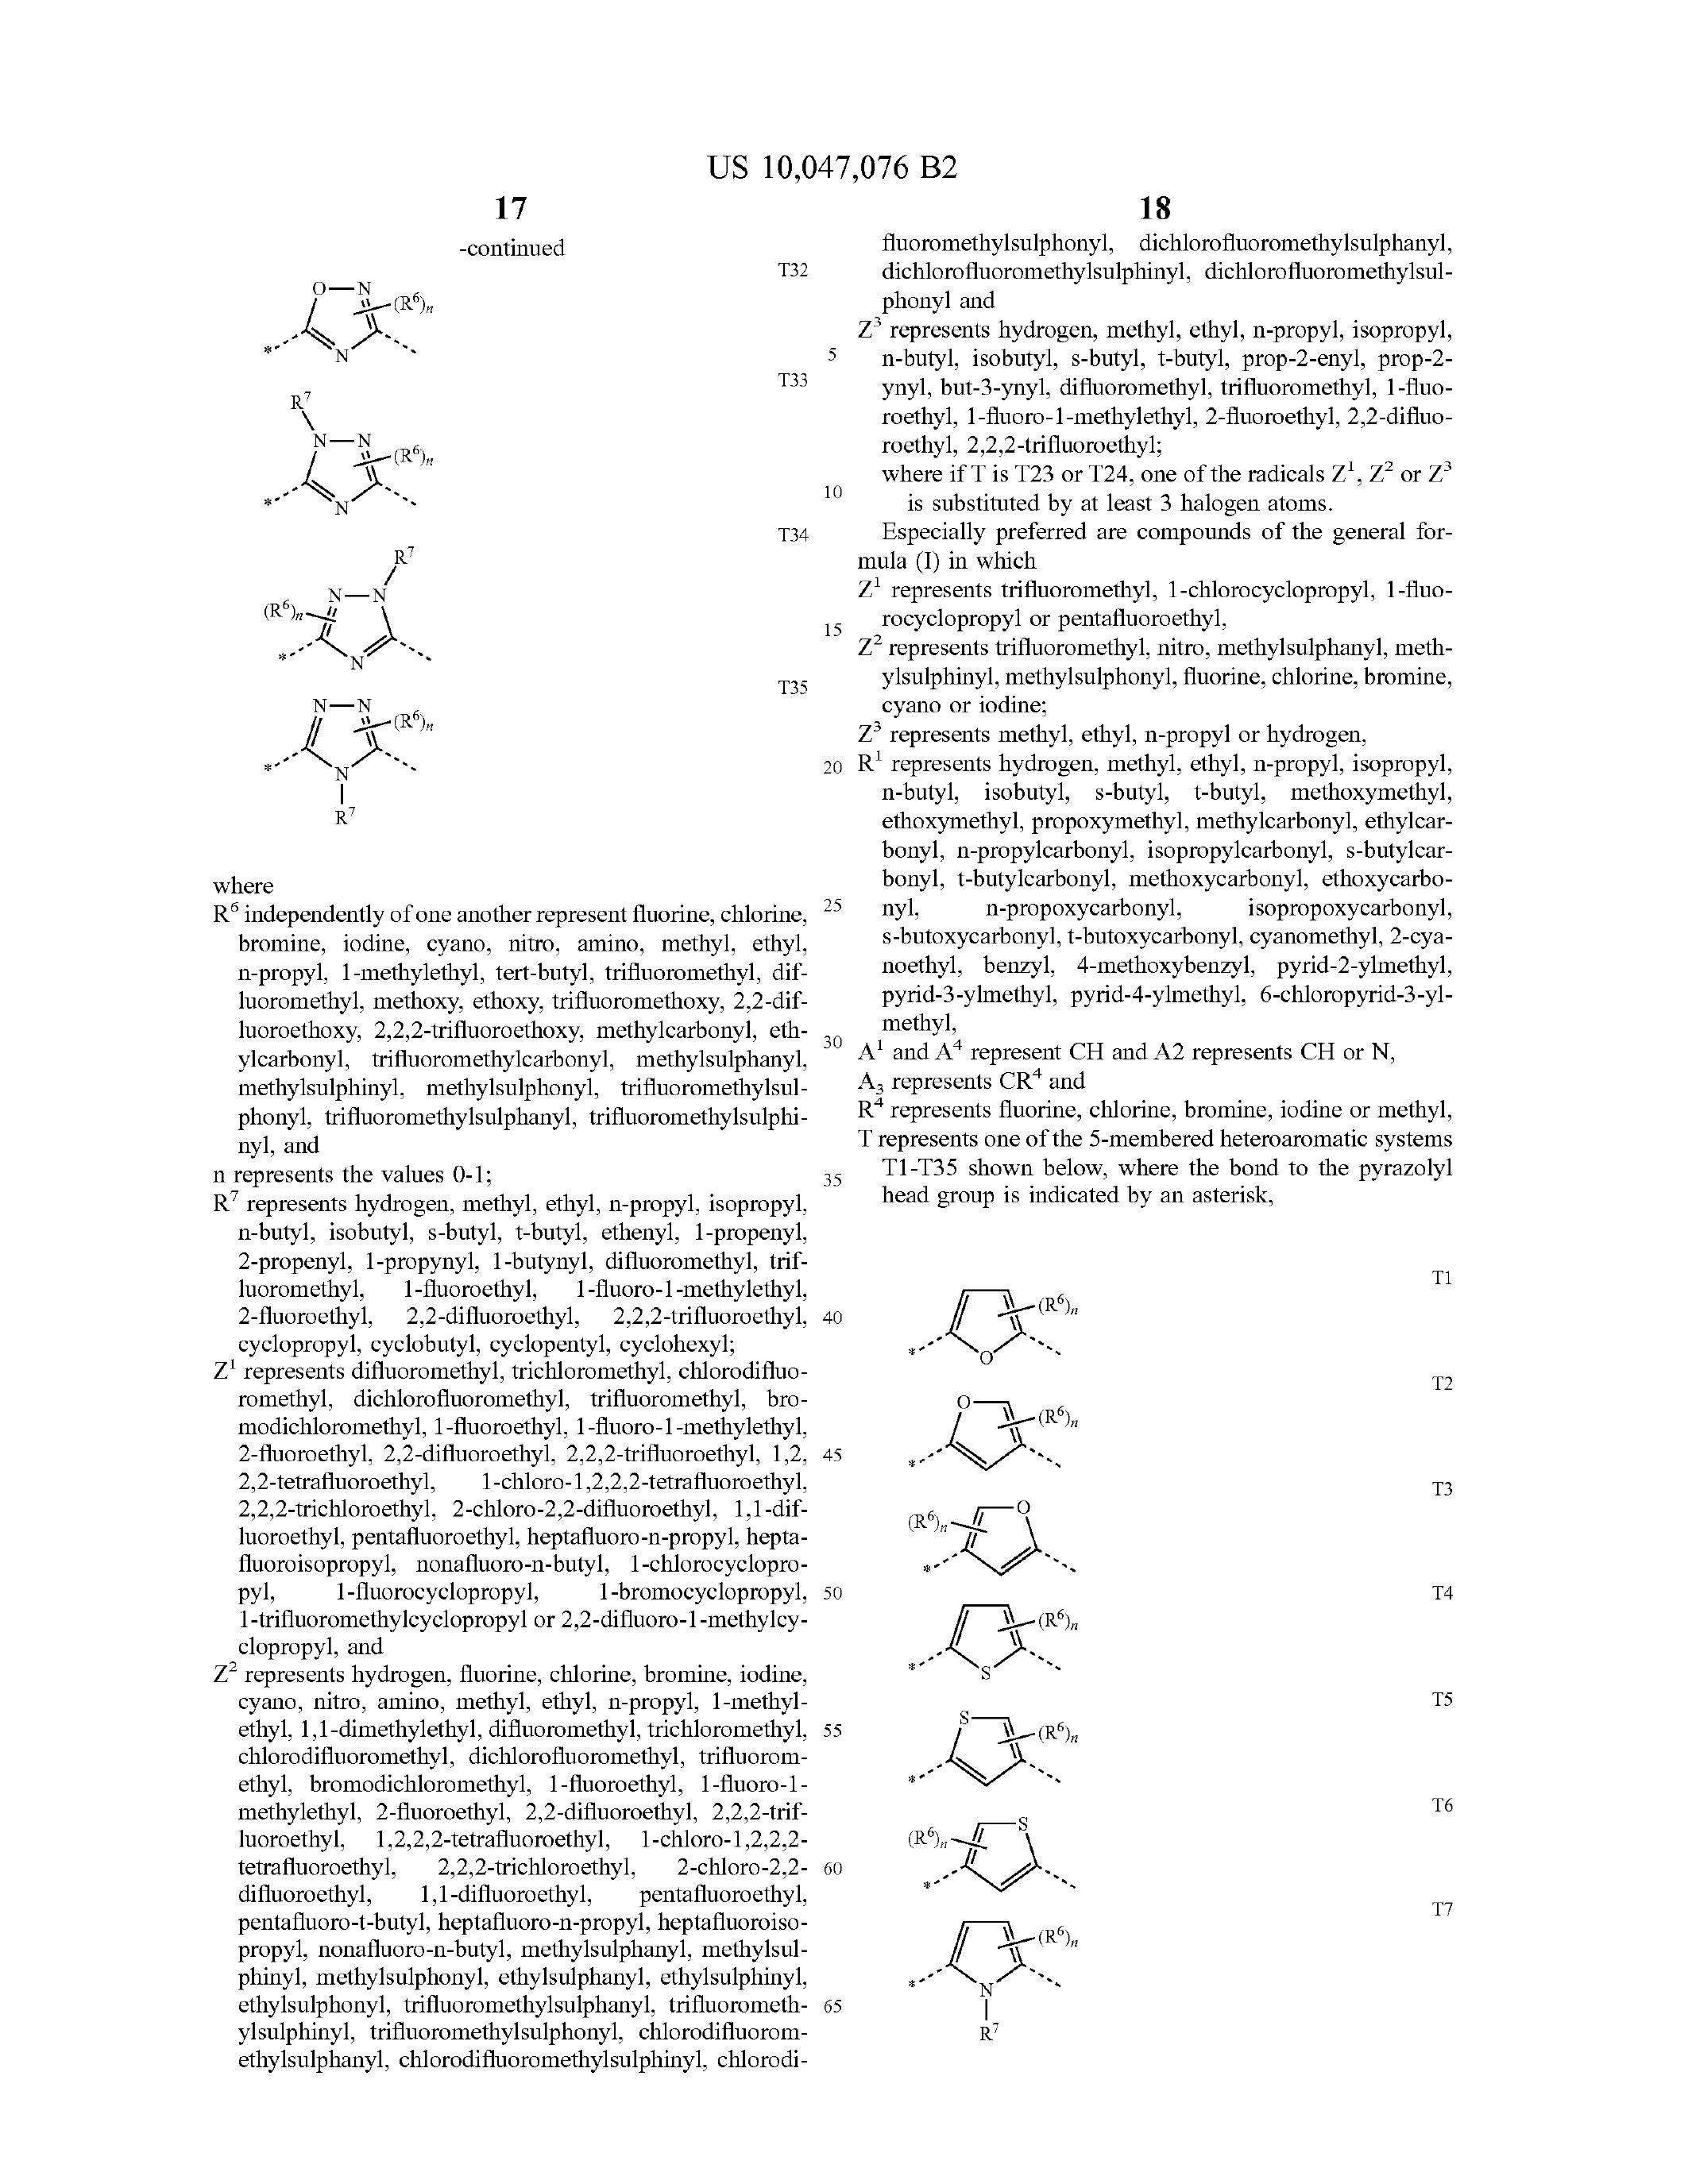substitutes: (176, 862, 809, 1351), (238, 681, 512, 833)
